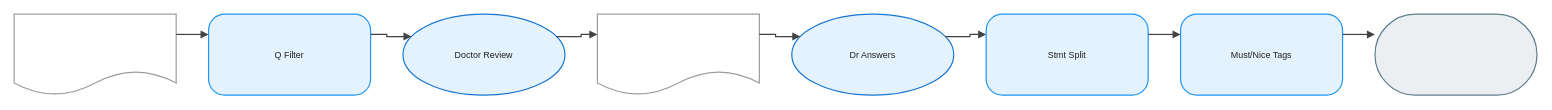
Some shapes in this 1552 by 110 pixel diagram are drawn without their labels. The shapes that lost their labels are listed below. From the top down, each one's box as (x1, y1, x2, y2) in pixels, then its label:
(13, 13, 176, 95): Patient Qs
(596, 13, 760, 95): 1212 Questions
(1374, 13, 1537, 95): NLI Metrics
